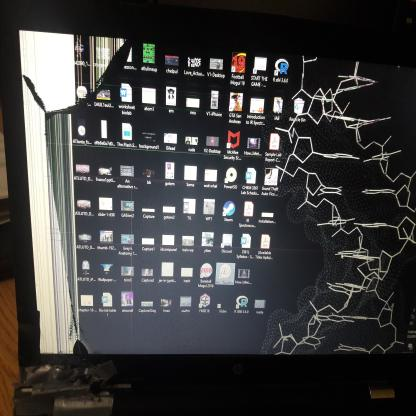crack: (19, 29, 136, 366)
lines: (19, 110, 80, 370)
